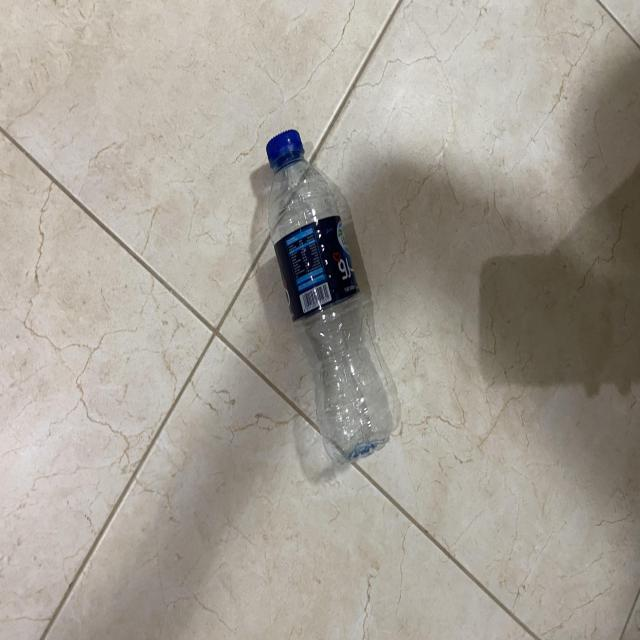plastic: (260, 124, 395, 468)
